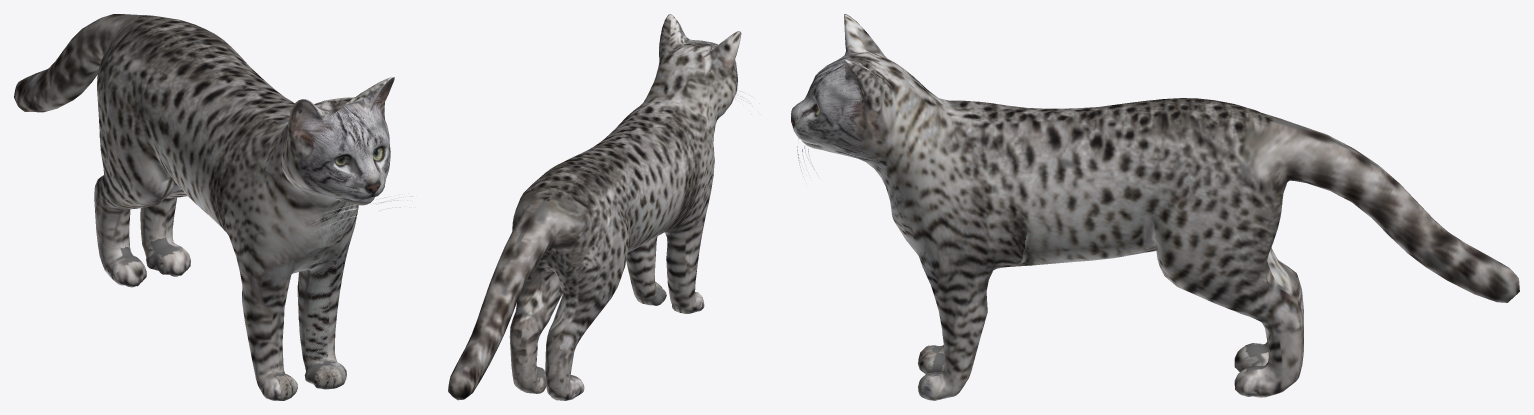
Rendered from EgyptianMau.gltf.
3 views of the same model, side by side, from view 1: azimuth 30°, elevation 25°; view 2: azimuth 150°, elevation 25°; view 3: azimuth 270°, elevation 25° (orthographic). The views are drawn at different scales.
Visible parts, largest first — view 1: high_poly; view 2: high_poly; view 3: high_poly.
Part boxes in pixels (x1=…): high_poly: x1=14, y1=14, x2=394, y2=400; high_poly: x1=448, y1=14, x2=741, y2=400; high_poly: x1=791, y1=14, x2=1519, y2=400.
Bounding box in the file's own units: 0.8994 × 2.35 × 4.46.
Materials: 3 (2 with a texture image).
